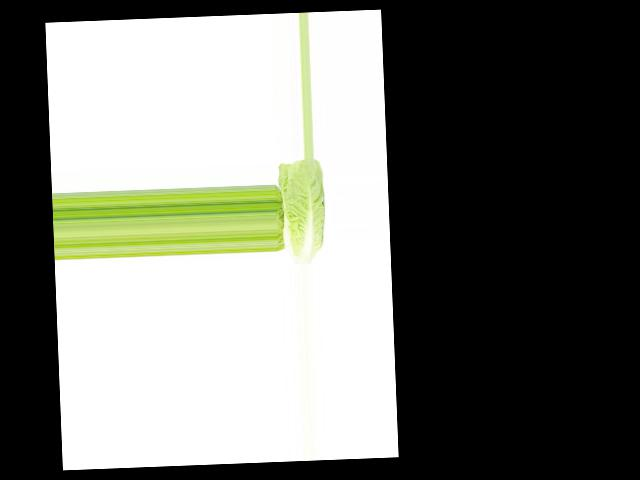lettuce: (279, 157, 333, 264)
